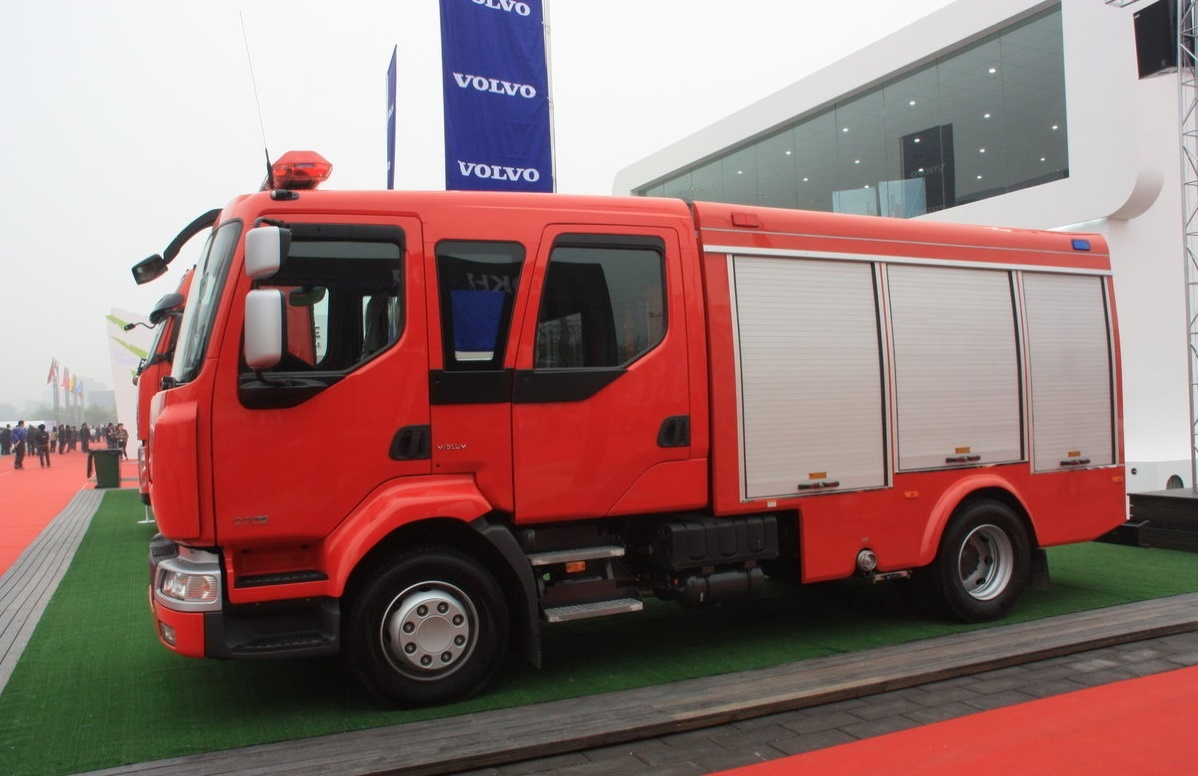fire engine: (107, 140, 1138, 690)
